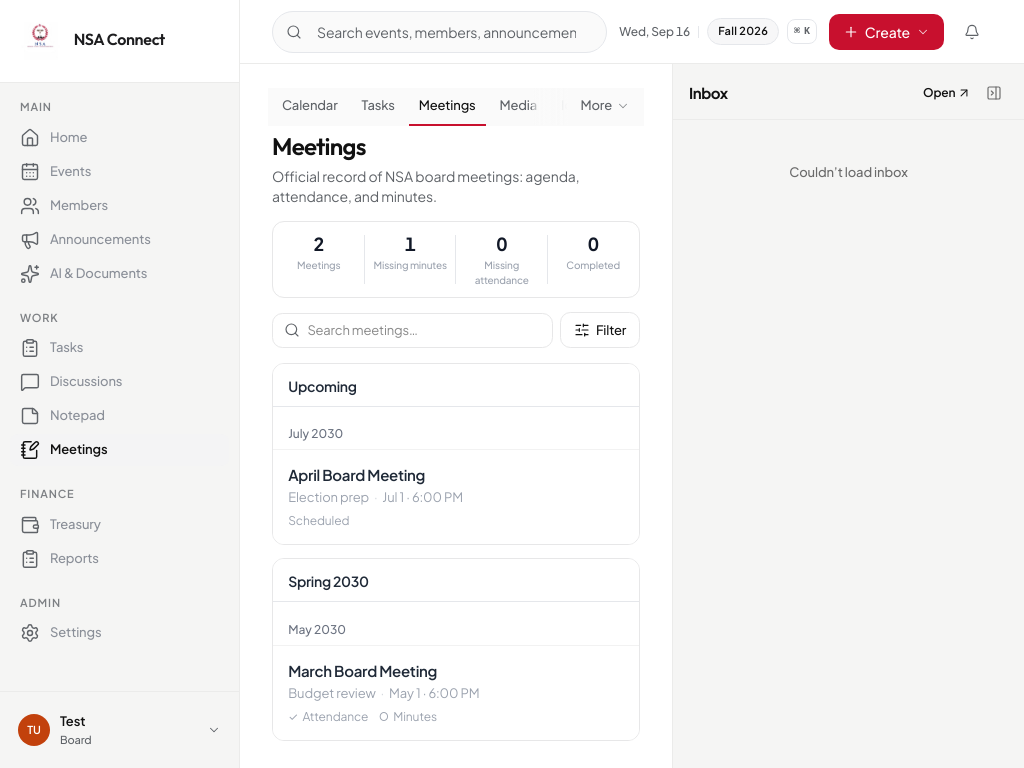
Test: BoardMeetingsPage › lists meetings with calm hierarchy and unique KPI filters
The width and height of the screenshot is (1024, 768).
Expected: the heading "Meetings" is shown, top-left (272, 131), bottom-right (366, 161)
Expected: the heading "April Board Meeting" is shown, top-left (288, 464), bottom-right (425, 486)
Click the button "1 Missing minutes": x=410, y=259 top-left (364, 222), bottom-right (456, 297)
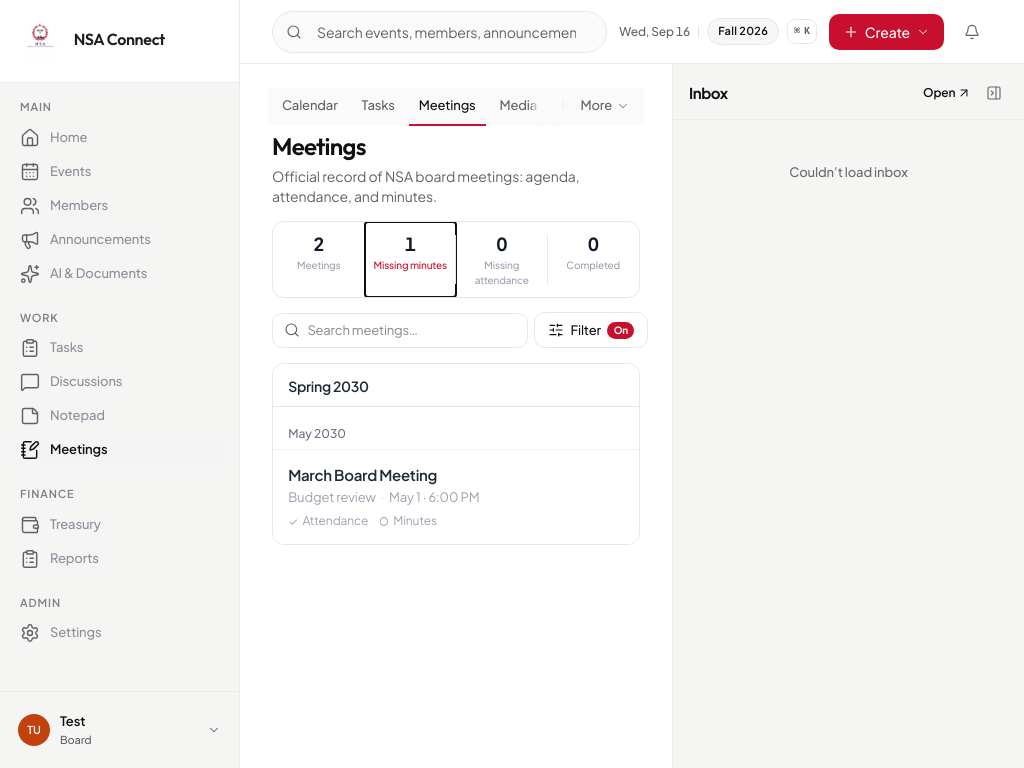
Expected: the heading "March Board Meeting" is shown, top-left (288, 464), bottom-right (437, 486)
Expected: the link "April Board Meeting" is gone
